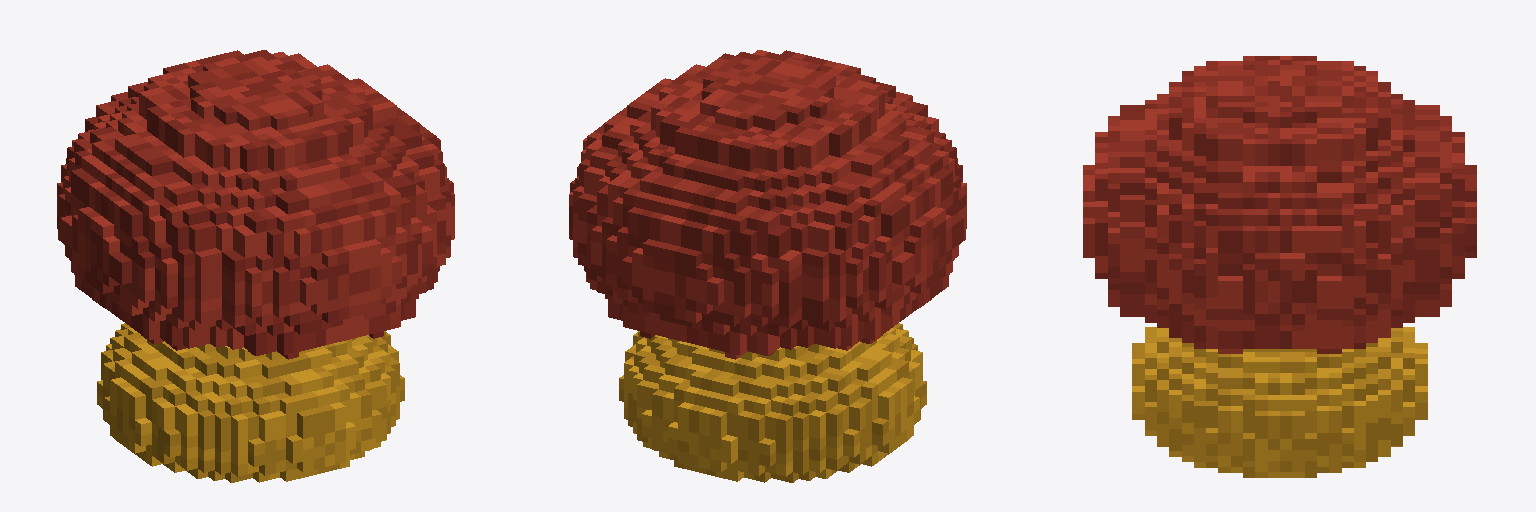
3 renders of one model, left to right at view 1: azimuth 30°, elevation 25°; view 2: azimuth 150°, elevation 25°; view 3: azimuth 270°, elevation 25°, orthographic.
Visible parts, largest first — view 1: object 1; view 2: object 1; view 3: object 1.
Boxes of the visible parts, x1,y1,x2,y2 form: object 1: [57, 50, 454, 482]; object 1: [569, 50, 966, 482]; object 1: [1083, 56, 1476, 477].
Bounding box in the file's own units: 3.1 × 3 × 3.2.
Materials: 1 (1 with a texture image).